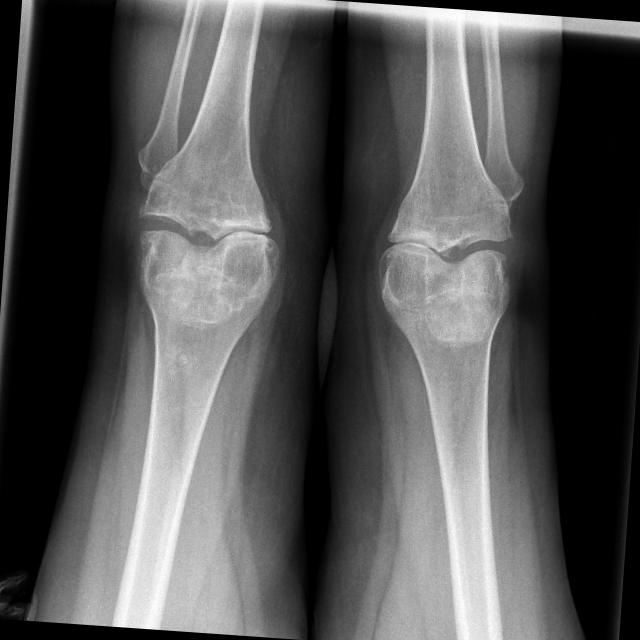Knee: (127, 163, 284, 313), (372, 182, 518, 327)
